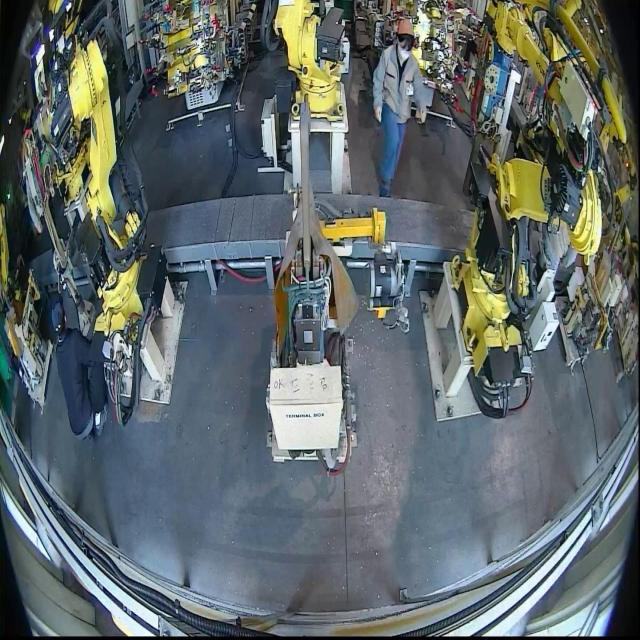Person: (372, 18, 426, 198)
